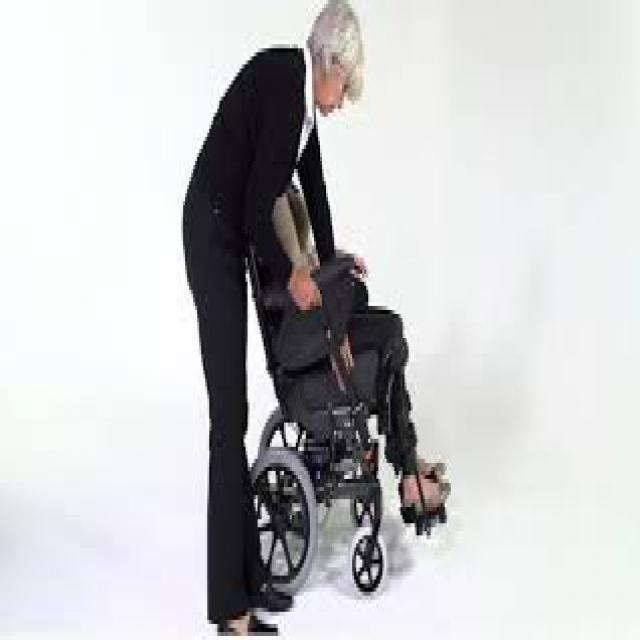wheelchairs: (231, 213, 451, 596)
